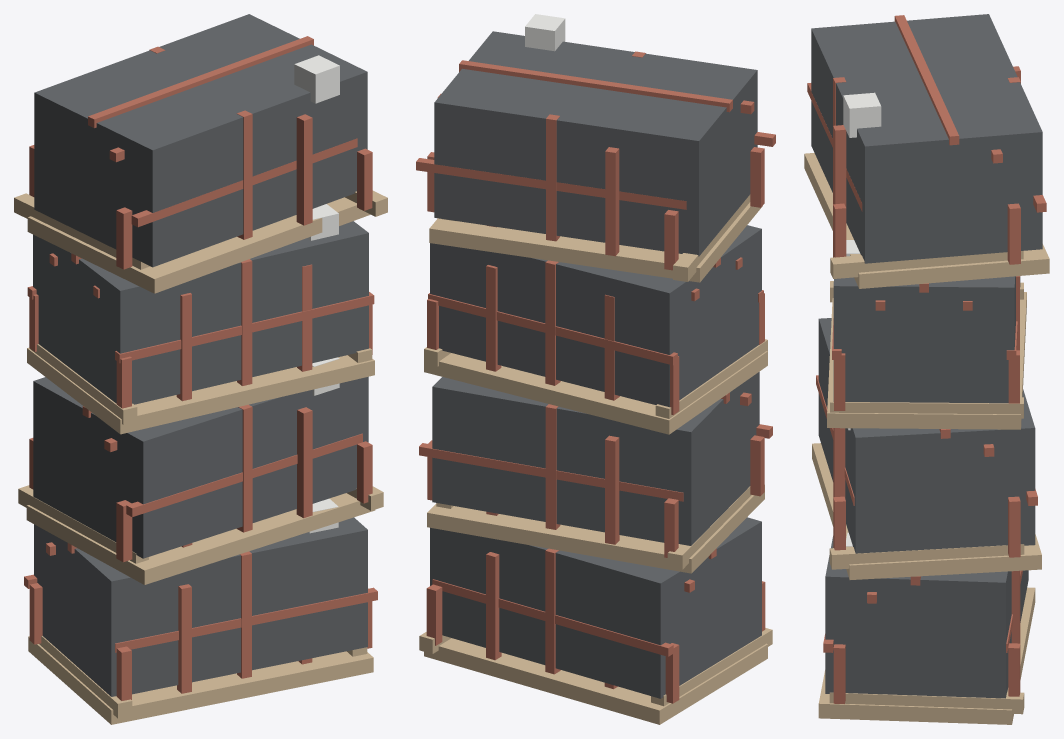
The model's file is fish-market-and-trawler-quay-fish-market-and-trawler-q-edd4f58f__37308.glb.
3 views of the same model, side by side, from view 1: azimuth 30°, elevation 25°; view 2: azimuth 150°, elevation 25°; view 3: azimuth 270°, elevation 25° (orthographic).
Visible parts, largest first — view 1: fish-market-and-trawler-quay-creel-stack; view 2: fish-market-and-trawler-quay-creel-stack; view 3: fish-market-and-trawler-quay-creel-stack.
Boxes of the visible parts, x1,y1,x2,y2 form: fish-market-and-trawler-quay-creel-stack: [14, 14, 387, 724]; fish-market-and-trawler-quay-creel-stack: [416, 14, 775, 724]; fish-market-and-trawler-quay-creel-stack: [804, 14, 1049, 724].
Size of the model in its own units: 1 by 2.05 by 0.7591.
